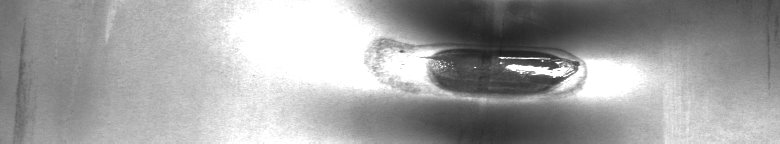ke: (354, 4, 630, 116)
